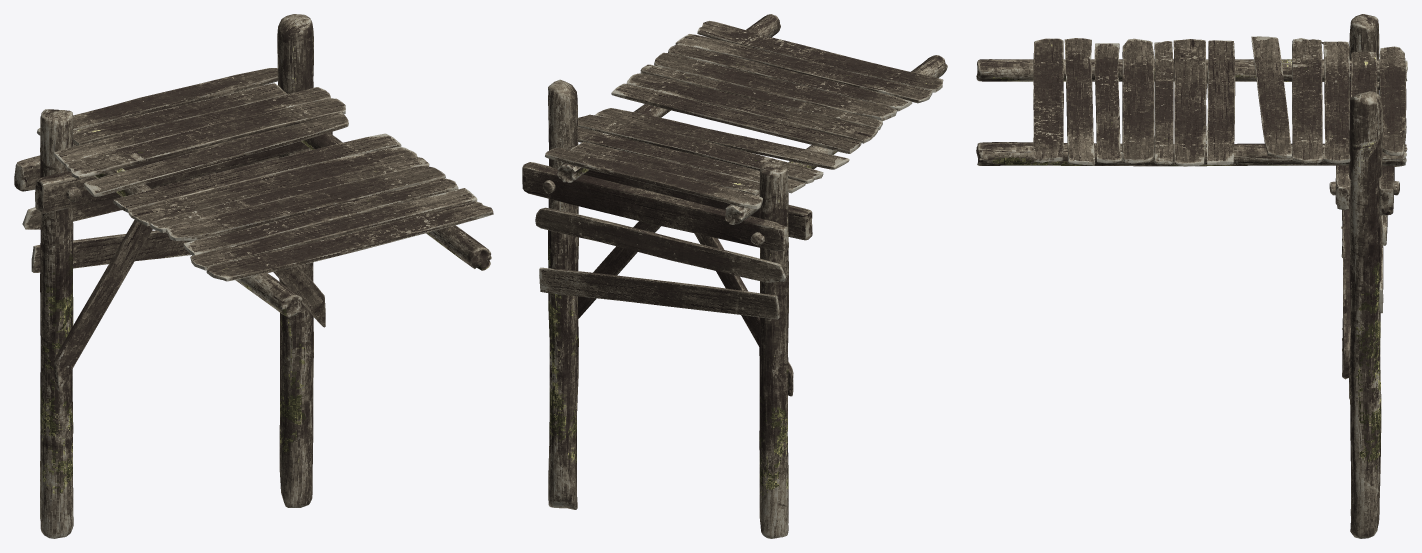
Rendered from wooden_pier_section_03.glb.
The picture shows the model from 3 angles, left to right: view 1: azimuth 30°, elevation 25°; view 2: azimuth 150°, elevation 25°; view 3: azimuth 270°, elevation 25°; orthographic projection. The views are drawn at different scales.
Visible parts, largest first — view 1: body; view 2: body; view 3: body.
Part boxes in pixels (x1=…): body: x1=14, y1=14, x2=493, y2=538; body: x1=522, y1=14, x2=947, y2=538; body: x1=976, y1=14, x2=1407, y2=538.
Size of the model in its own units: 2.51 by 3.84 by 3.39.
Materials: 1 (1 with a texture image).
